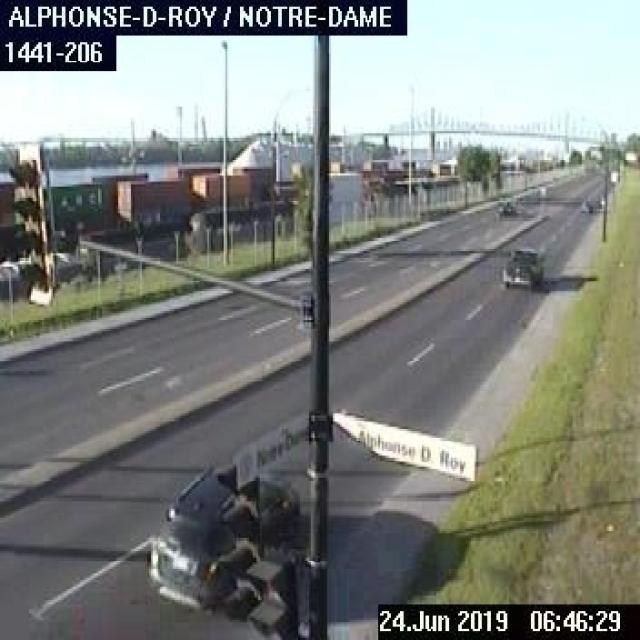vehicle: (145, 452, 303, 611), (498, 244, 544, 289), (493, 196, 514, 216), (578, 198, 593, 211)
